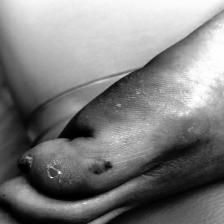Benign Marking or Mole: (82, 154, 120, 177)
